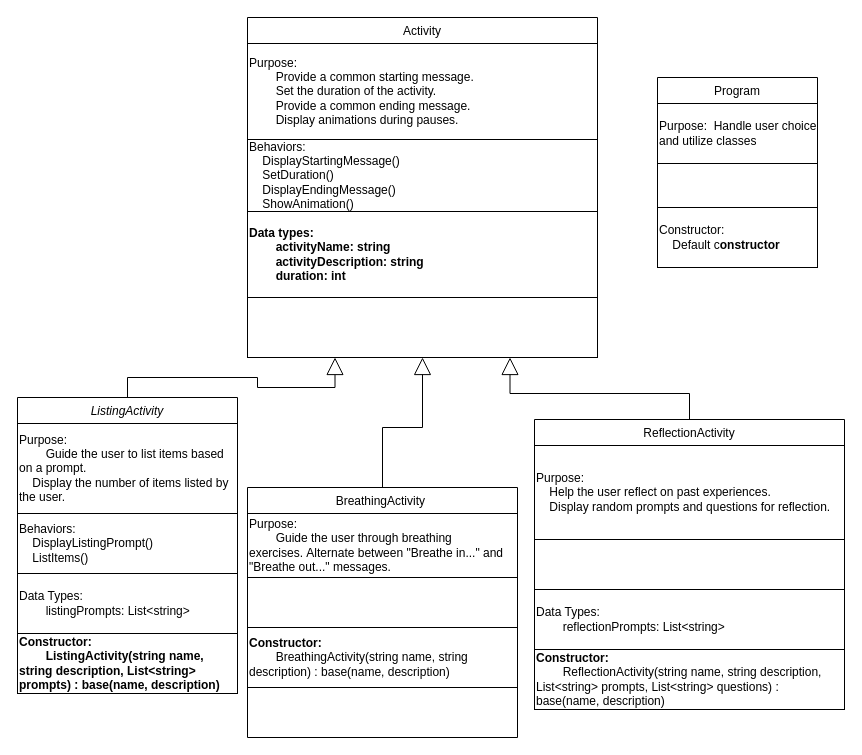
Image size: 862x755. Some labels were removed from this diagram. The centre of each missing label's shape, as x and y in pixels:
"Behaviors: DisplayRandomPrompt() AskReflectionQuestions()" goes at point (689, 564).
"Behaviors: StartBreathingExercise()" goes at point (382, 602).
"Constructor: Activity(string name, string description)" goes at point (422, 327).
"methods: DisplayMenu Start Activity" goes at point (737, 185).
